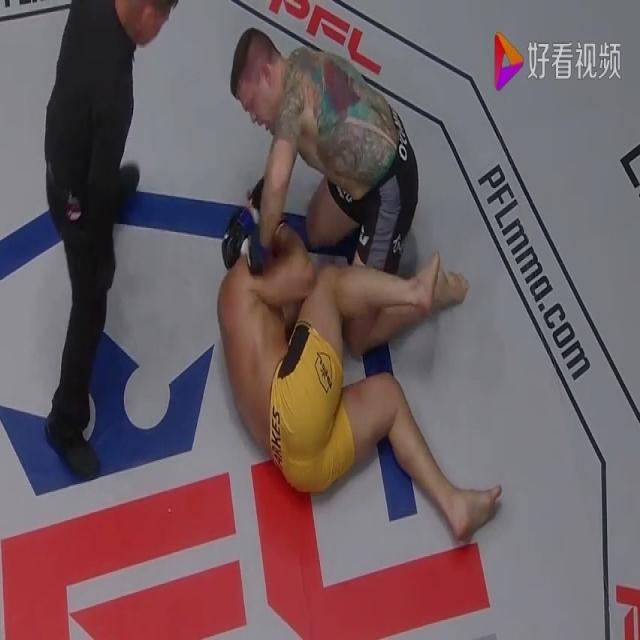fight: (212, 21, 506, 544)
non-fight: (41, 0, 179, 476)
